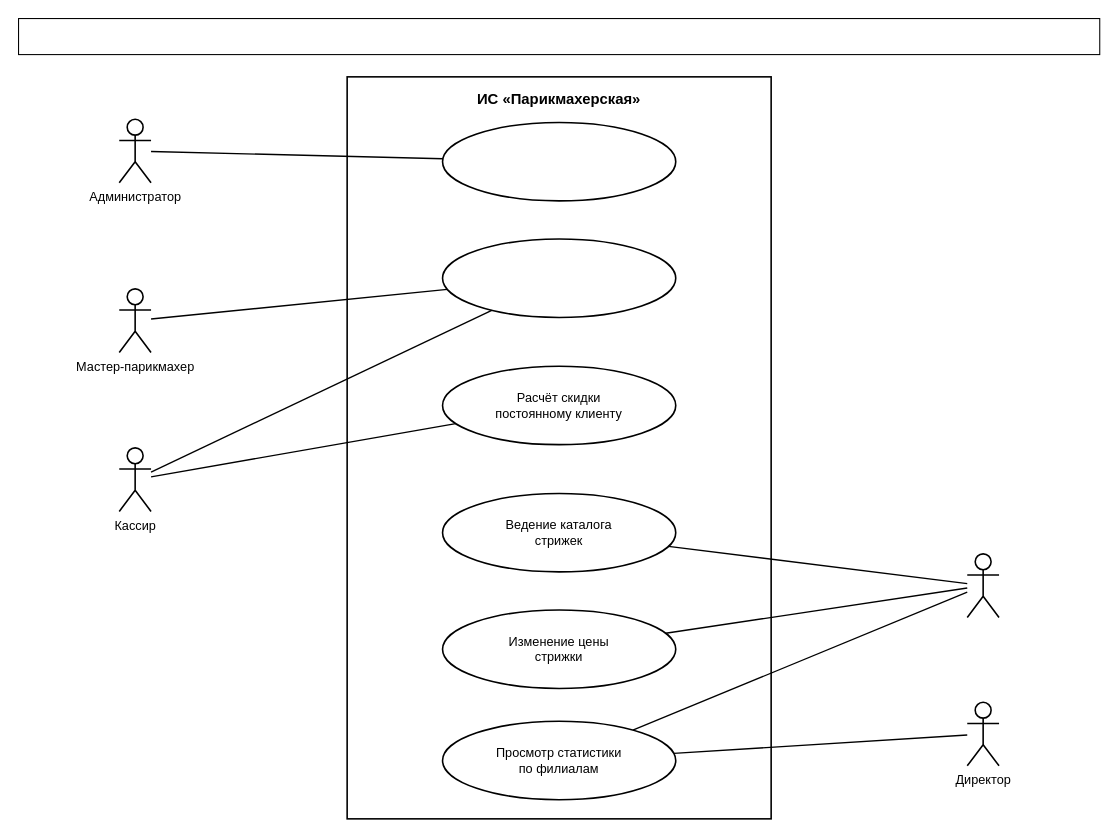
This 1118x838 diagram has some shape labels left out. The centre of each missing label's shape, as x and y in pixels:
"Диаграмма прецедентов ИС «Парикмахерская»" goes at [558,36].
"Оформление стрижки в кассе" goes at [558,278].
"Управляющий салоном" goes at [982,585].
"Учёт клиентов" goes at [558,161].
